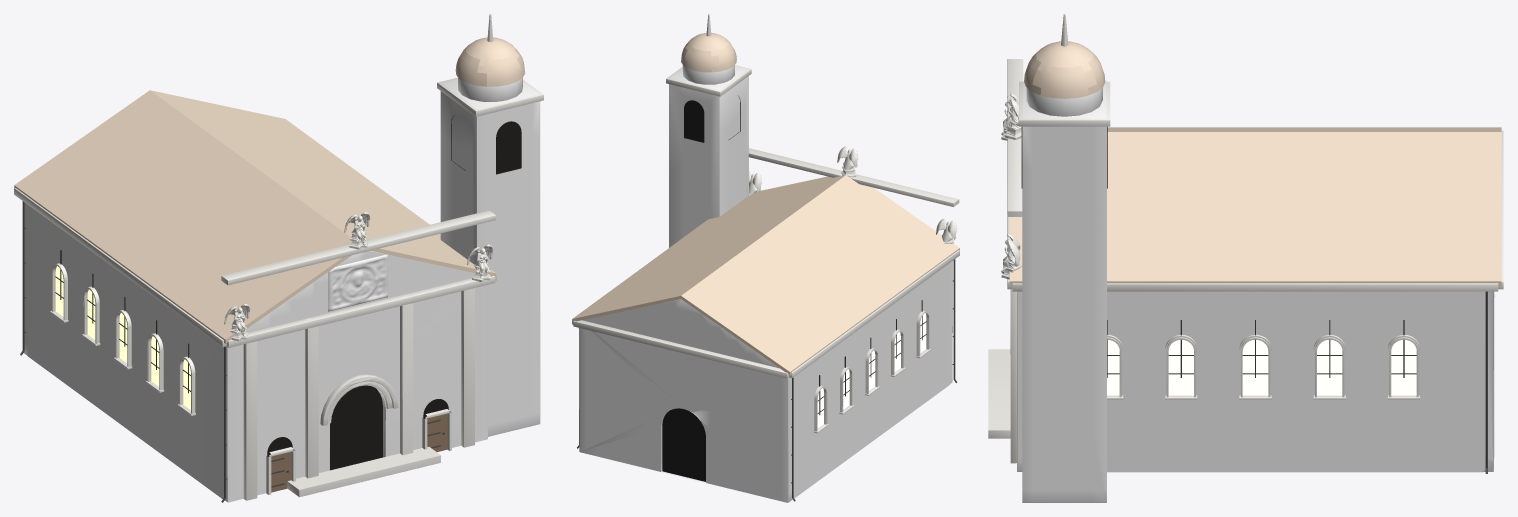
Rendered from first-cathedral.glb.
3 views of the same model, side by side, from view 1: azimuth 30°, elevation 25°; view 2: azimuth 150°, elevation 25°; view 3: azimuth 270°, elevation 25° (orthographic). The views are drawn at different scales.
Parts seen in each view (by area): view 1: vibiana_wall, vibiana_roof, vibiana_trim, merged_vibiana_trim, vibiana_shadow, merged_vibiana_relief_vibiana-pediment, vibiana_glass, vibiana_bronze, detail_vibiana_pipe; view 2: vibiana_wall, vibiana_roof, vibiana_trim, vibiana_shadow, merged_vibiana_trim, vibiana_glass, detail_vibiana_pipe; view 3: vibiana_wall, vibiana_roof, vibiana_trim, vibiana_glass, merged_vibiana_trim, detail_vibiana_frame.
Boxes of the visible parts, left/top/right/bottom form: vibiana_wall: left=23, top=77, right=540, bottom=502; vibiana_roof: left=14, top=37, right=525, bottom=343; vibiana_trim: left=14, top=14, right=543, bottom=500; merged_vibiana_trim: left=50, top=212, right=493, bottom=494; vibiana_shadow: left=267, top=115, right=521, bottom=470; merged_vibiana_relief_vibiana-pediment: left=328, top=254, right=387, bottom=311; vibiana_glass: left=55, top=266, right=190, bottom=409; vibiana_bronze: left=270, top=413, right=447, bottom=492; detail_vibiana_pipe: left=20, top=201, right=444, bottom=502; vibiana_wall: left=578, top=65, right=952, bottom=502; vibiana_roof: left=572, top=33, right=959, bottom=375; vibiana_trim: left=572, top=14, right=959, bottom=378; vibiana_shadow: left=662, top=96, right=740, bottom=481; merged_vibiana_trim: left=749, top=146, right=956, bottom=433; vibiana_glass: left=817, top=313, right=926, bottom=428; detail_vibiana_pipe: left=577, top=259, right=957, bottom=501; vibiana_wall: left=1017, top=83, right=1494, bottom=502; vibiana_roof: left=1009, top=41, right=1501, bottom=286; vibiana_trim: left=988, top=14, right=1503, bottom=463; vibiana_glass: left=1107, top=340, right=1416, bottom=395; merged_vibiana_trim: left=1001, top=93, right=1419, bottom=399; detail_vibiana_frame: left=1107, top=320, right=1416, bottom=377.
Size of the model in its own units: 20.55 by 24.52 by 24.3.
